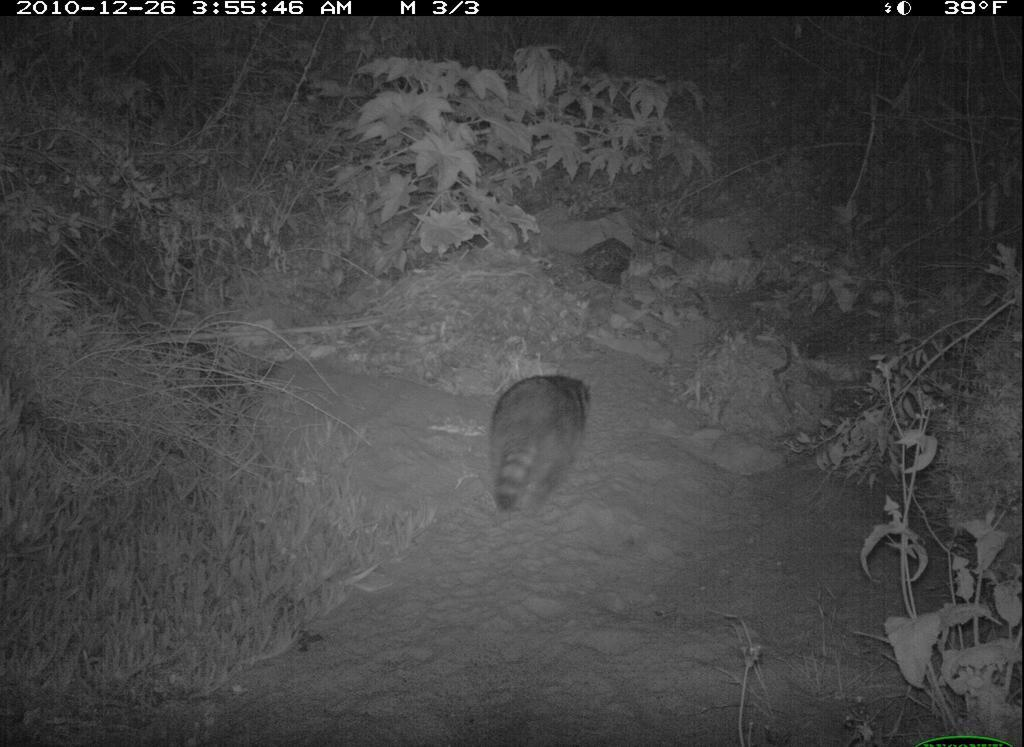raccoon: (479, 368, 597, 518)
